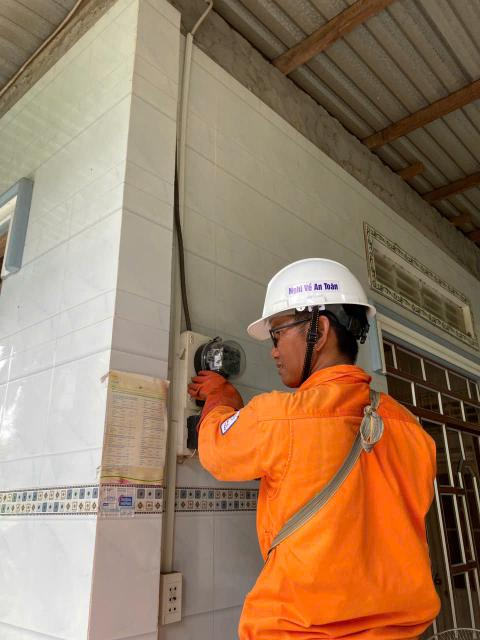gloves: (175, 359, 247, 424)
helmet: (243, 250, 382, 341)
